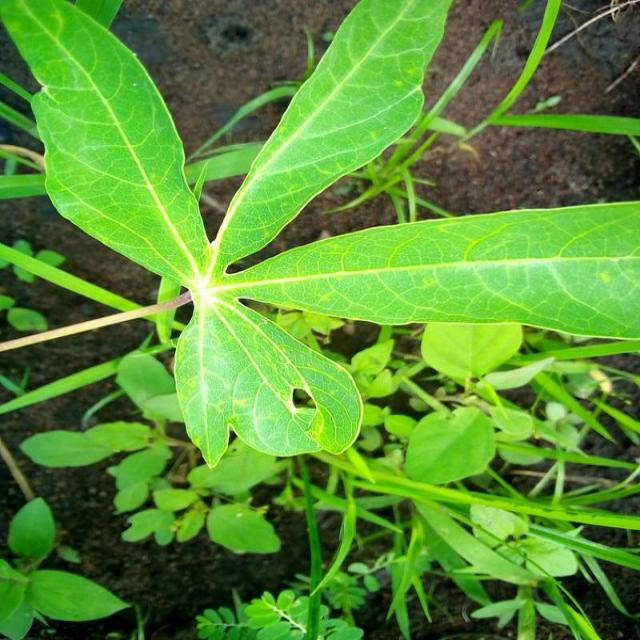cassava leaf: (0, 0, 637, 468), (210, 0, 452, 273), (0, 0, 210, 290)
